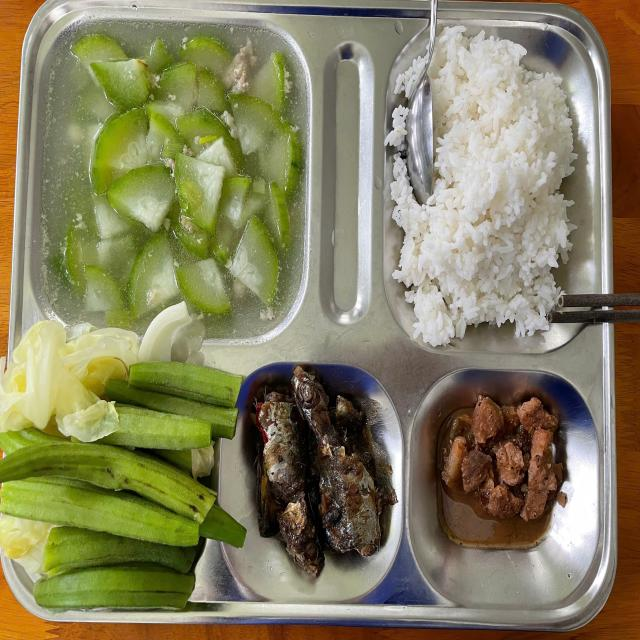cailuoc: (2, 302, 187, 442)
cakho: (252, 374, 390, 569)
canhbau: (43, 35, 299, 306)
daubap: (0, 358, 250, 624)
salad: (406, 44, 578, 340)
tomramthit: (439, 394, 579, 536)
